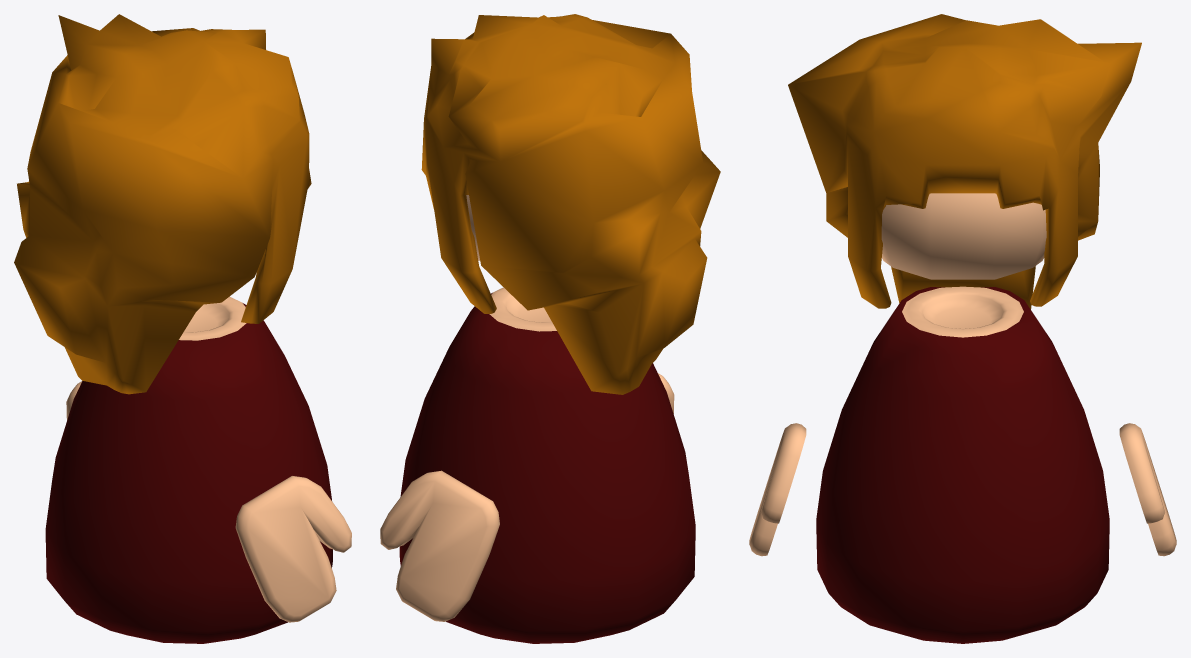
Rendered from Personagem 1.fbx.
The picture shows the model from 3 angles, left to right: view 1: azimuth 30°, elevation 25°; view 2: azimuth 150°, elevation 25°; view 3: azimuth 270°, elevation 25°; orthographic projection. The views are drawn at different scales.
Visible parts, largest first — view 1: Cabelo 2, Corpo, Mao 1; view 2: Cabelo 2, Corpo, Mao 2; view 3: Corpo, Cabelo 2, Mao 1, Mao 2.
Part boxes in pixels (box(x1,y1,x2,y2)): Cabelo 2: box(14, 14, 311, 394); Corpo: box(45, 296, 332, 643); Mao 1: box(235, 476, 351, 622); Cabelo 2: box(421, 14, 720, 394); Corpo: box(399, 287, 695, 643); Mao 2: box(380, 470, 499, 621); Corpo: box(816, 286, 1109, 643); Cabelo 2: box(788, 14, 1141, 309); Mao 1: box(749, 423, 806, 556); Mao 2: box(1119, 423, 1176, 556).
Size of the model in its own units: 232 by 439 by 303.
